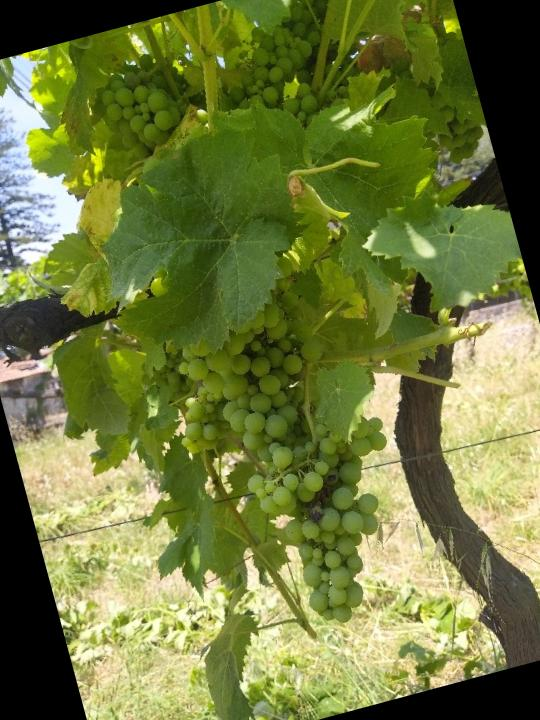grape: (235, 410, 432, 640), (149, 290, 349, 477), (205, 0, 365, 142), (78, 44, 202, 163)
